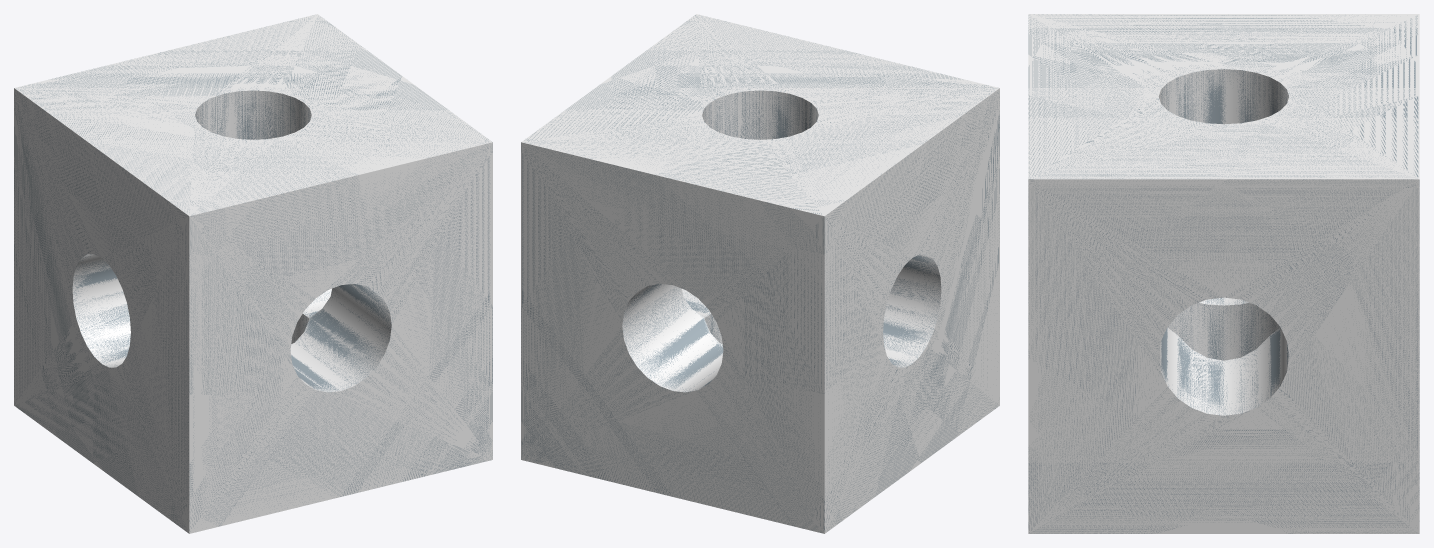
File: block.obj
The picture shows the model from 3 angles, left to right: view 1: azimuth 30°, elevation 25°; view 2: azimuth 150°, elevation 25°; view 3: azimuth 270°, elevation 25°; orthographic projection. The views are drawn at different scales.
Parts seen in each view (by area): view 1: Mesh1 Model; view 2: Mesh1 Model; view 3: Mesh1 Model.
Part boxes in pixels (bbox=[...]): Mesh1 Model: bbox=[14, 14, 492, 533]; Mesh1 Model: bbox=[521, 14, 999, 533]; Mesh1 Model: bbox=[1028, 14, 1419, 533].
Size of the model in its own units: 0.0381 by 0.0381 by 0.0381.
